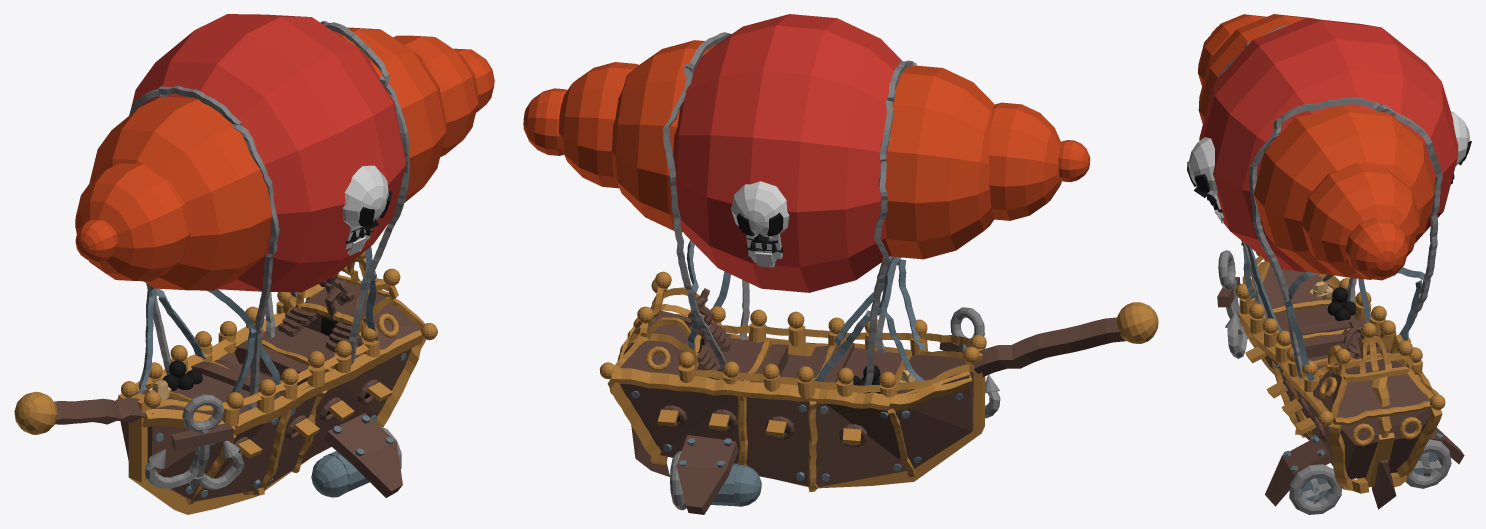
Rendered from pirateShipFlyingModel_alone_animation_v002.dae.
3 renders of one model, left to right at view 1: azimuth 30°, elevation 25°; view 2: azimuth 150°, elevation 25°; view 3: azimuth 270°, elevation 25°, orthographic. The views are drawn at different scales.
Visible parts, largest first — view 1: Pirate_Ship_Fliying_resized; view 2: Pirate_Ship_Fliying_resized; view 3: Pirate_Ship_Fliying_resized.
Part boxes in pixels (box(x1,y1,x2,y2)): Pirate_Ship_Fliying_resized: box(14, 14, 494, 514); Pirate_Ship_Fliying_resized: box(523, 14, 1158, 514); Pirate_Ship_Fliying_resized: box(1187, 14, 1471, 514).
Size of the model in its own units: 976 by 798 by 472.
